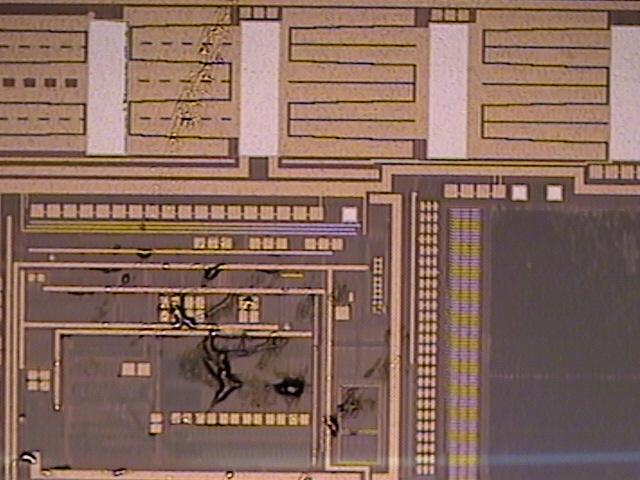SCRATCH: (66, 1, 423, 470)
